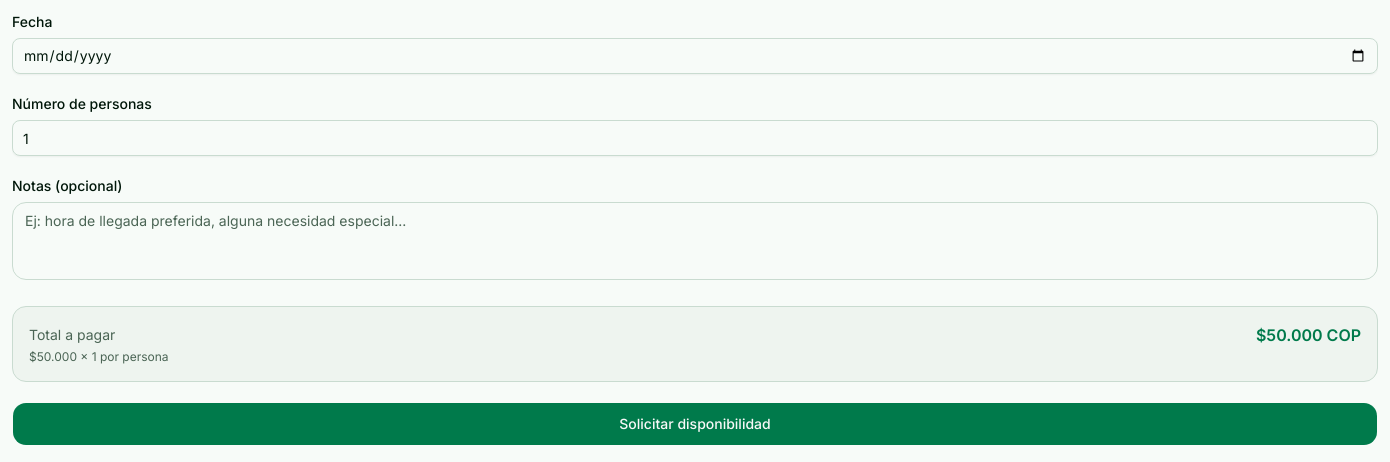
PackagePrereservaForm — form fields › updates the live total when the quantity changes
Replace the text in the number field labelled "Número de personas" with "3": point(695, 138) [12,120,1378,156]
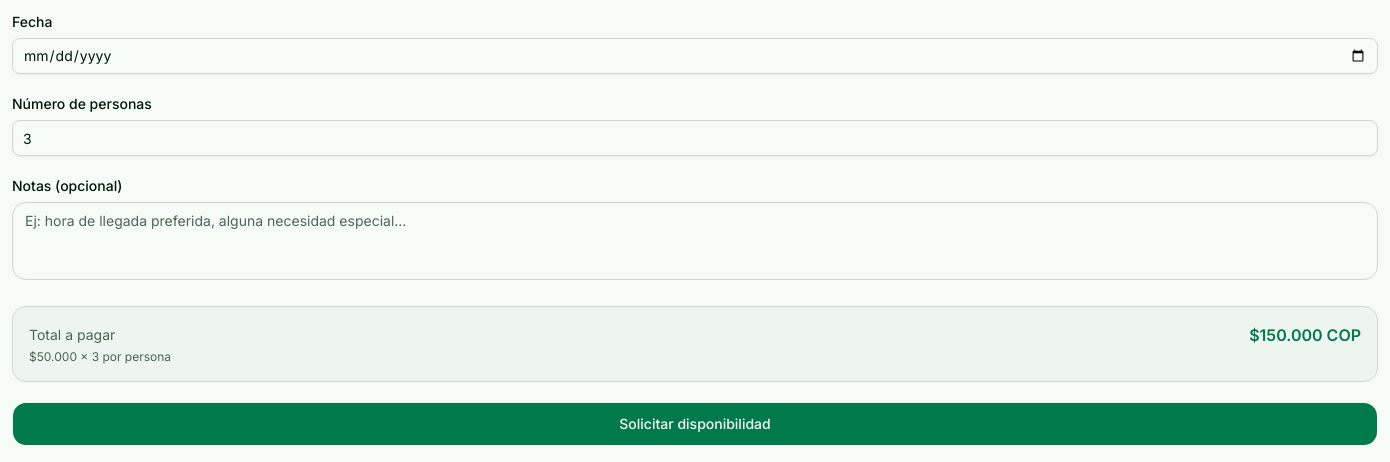
Check: the text "$150.000 COP" is shown, box [1249,323,1361,347]
